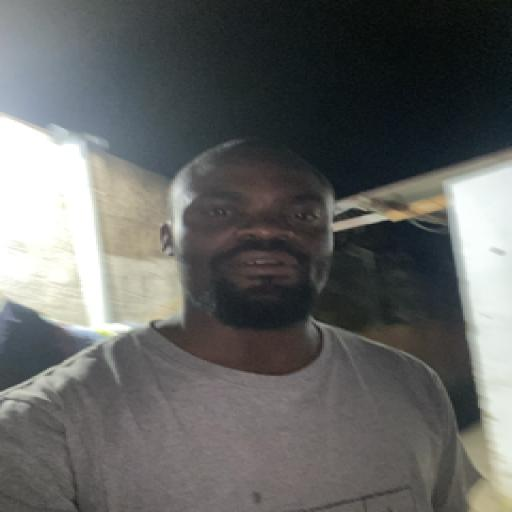JEANLUC: (156, 122, 331, 347)
